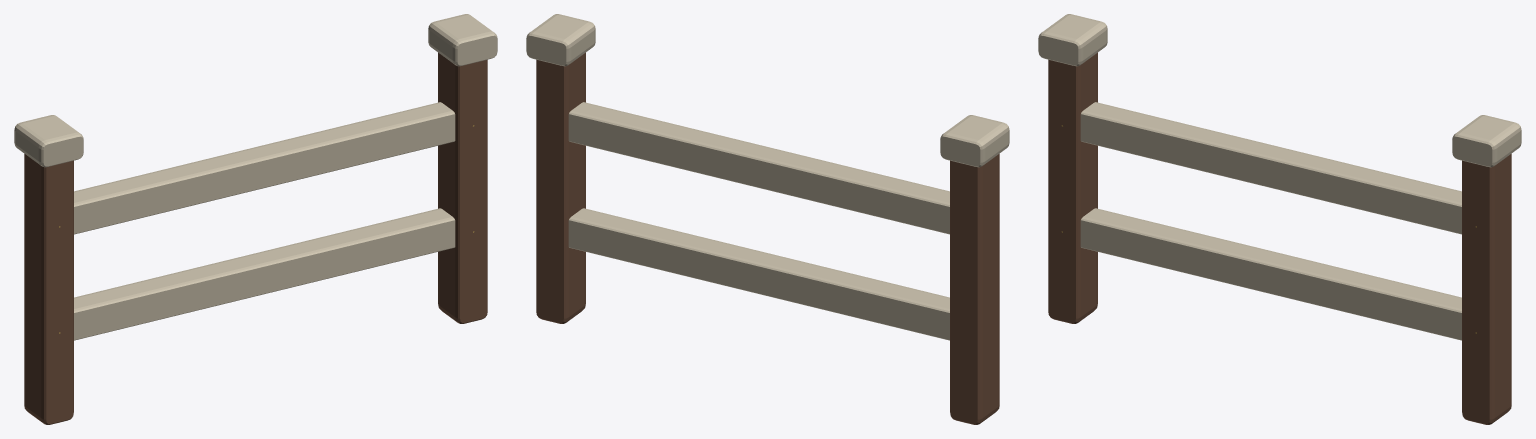
Rendered from farm-fence.glb.
3 views of the same model, side by side, from view 1: azimuth 30°, elevation 25°; view 2: azimuth 150°, elevation 25°; view 3: azimuth 330°, elevation 25° (orthographic).
Parts seen in each view (by area): view 1: shell; view 2: shell; view 3: shell.
Part boxes in pixels (x1,y1,x2,y2): shell: (14, 14, 497, 424); shell: (526, 14, 1009, 424); shell: (1038, 14, 1521, 424).
Size of the model in its own units: 2.21 by 1.33 by 0.24.
